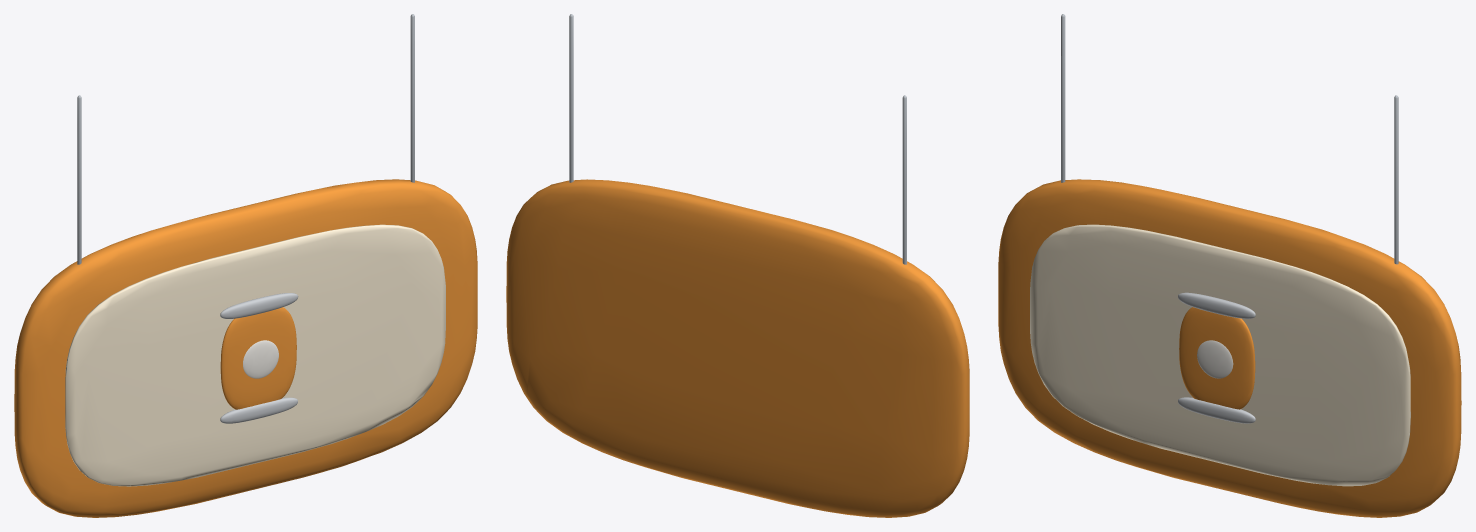
Rendered from letrero_abarrotes.glb.
3 views of the same model, side by side, from view 1: azimuth 30°, elevation 25°; view 2: azimuth 150°, elevation 25°; view 3: azimuth 330°, elevation 25° (orthographic).
Visible parts, largest first — view 1: placa letrero.001, letrero sección.001, lata.002, borde lata.003, logo lata.001, borde lata.002, cadena letrero.002, cadena letrero.003; view 2: letrero sección.001, cadena letrero.002, cadena letrero.003; view 3: placa letrero.001, letrero sección.001, lata.002, borde lata.003, logo lata.001, borde lata.002, cadena letrero.003, cadena letrero.002.
Boxes of the visible parts, x1,y1,x2,y2 form: placa letrero.001: (65,224,445,486); letrero sección.001: (14,179,477,517); lata.002: (220,307,296,409); borde lata.003: (220,293,298,318); logo lata.001: (243,340,278,378); borde lata.002: (220,397,297,423); cadena letrero.002: (77,95,81,264); cadena letrero.003: (410,14,414,182); letrero sección.001: (506,179,969,517); cadena letrero.002: (902,95,906,264); cadena letrero.003: (569,14,573,182); placa letrero.001: (1030,224,1410,486); letrero sección.001: (998,179,1461,517); lata.002: (1179,307,1255,409); borde lata.003: (1178,292,1255,318); logo lata.001: (1197,340,1233,378); borde lata.002: (1178,397,1255,423); cadena letrero.003: (1394,95,1398,264); cadena letrero.002: (1061,14,1065,182).
Size of the model in its own units: 1.16 by 1.05 by 0.1081.
